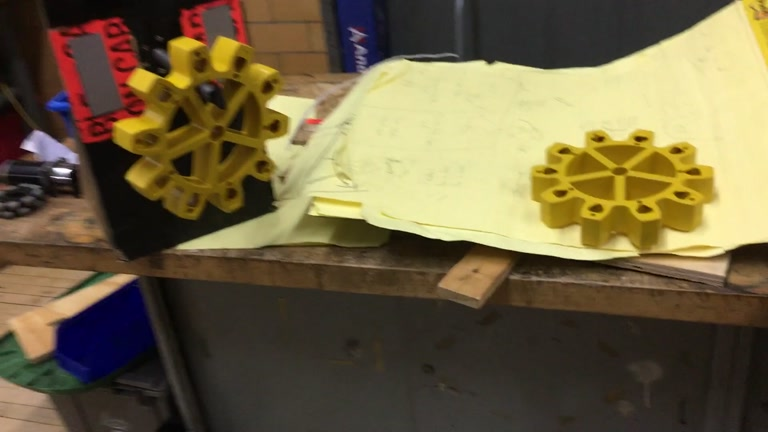gear: (112, 36, 290, 221), (531, 127, 717, 251)
